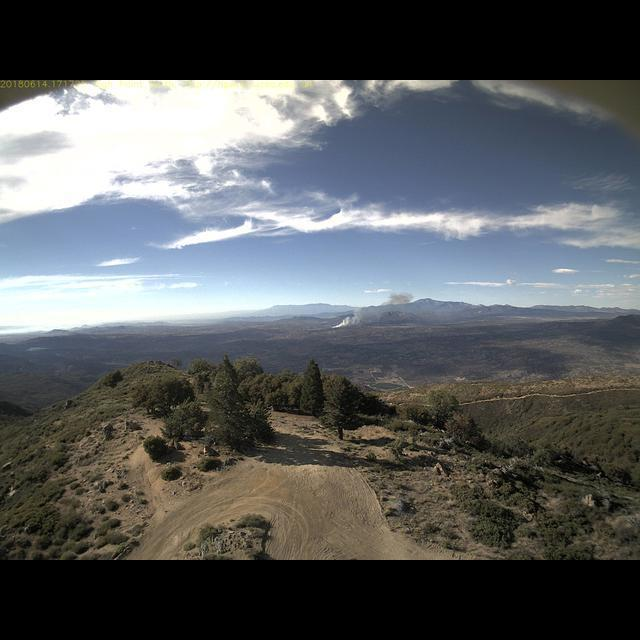Smoke: (324, 288, 419, 331)
